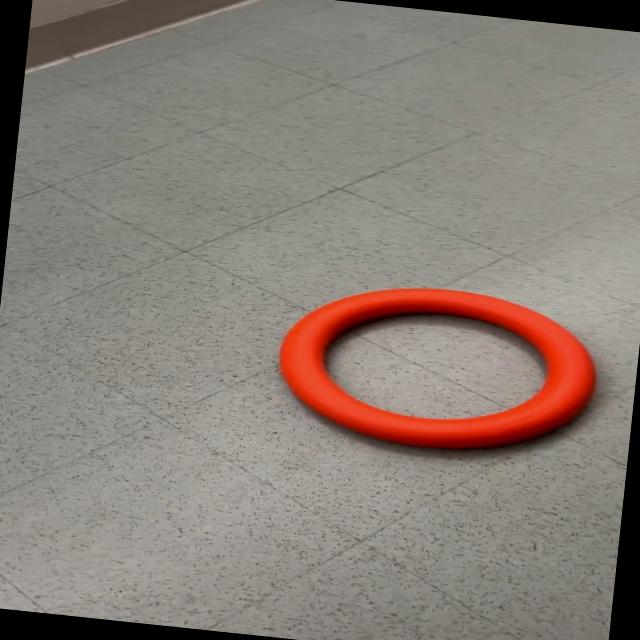note: (268, 270, 604, 465)
